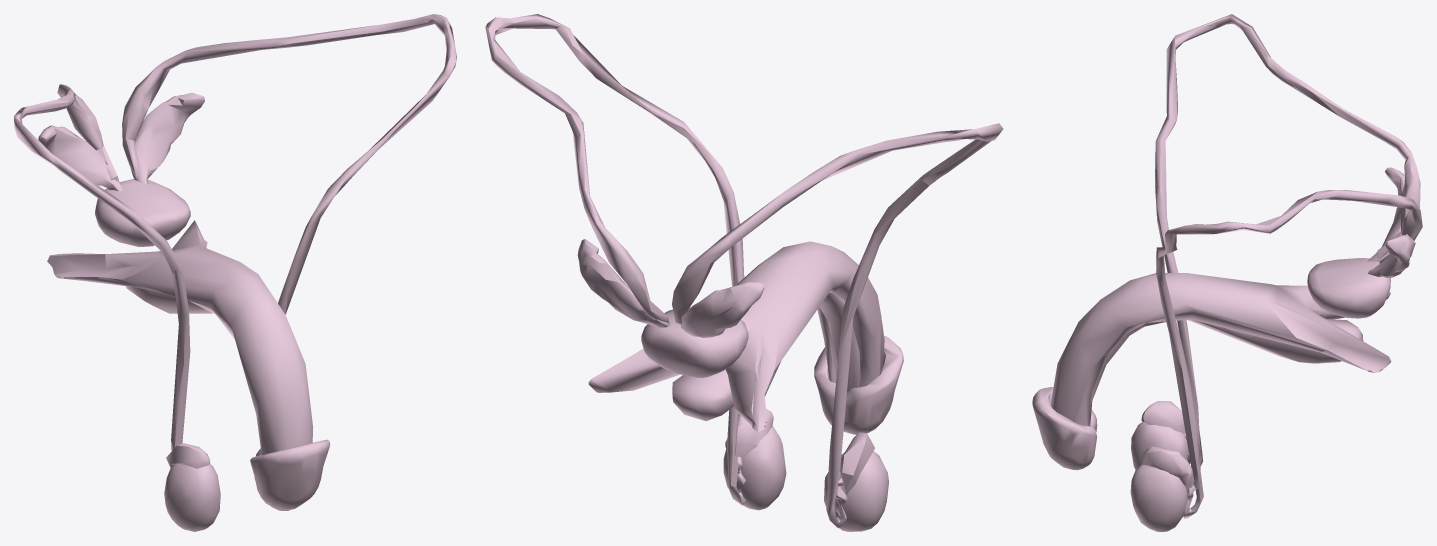
Rendered from genital-m-bassin.lo.glb.
The picture shows the model from 3 angles, left to right: view 1: azimuth 30°, elevation 25°; view 2: azimuth 150°, elevation 25°; view 3: azimuth 270°, elevation 25°; orthographic projection. The views are drawn at different scales.
Visible parts, largest first — view 1: FJ3132, FJ3135, FJ3140, FJ3139, FJ3134, FJ3142, FJ3137, FJ3143, FJ3133, FJ3141; view 2: FJ3132, FJ3140, FJ3135, FJ3139, FJ3134, FJ3133, FJ3138, FJ3143, FJ3142, FJ3137, FJ3141, FJ3136; view 3: FJ3132, FJ3140, FJ3135, FJ3139, FJ3134, FJ3138, FJ3133, FJ3142, FJ3136, FJ3137, FJ3141, FJ3143.
Part boxes in pixels (<box>): FJ3132: <box>47,220,313,455</box>; FJ3135: <box>122,14,456,314</box>; FJ3140: <box>14,84,190,450</box>; FJ3139: <box>95,179,190,246</box>; FJ3134: <box>250,439,330,510</box>; FJ3142: <box>164,463,220,531</box>; FJ3137: <box>130,92,204,184</box>; FJ3143: <box>38,125,122,191</box>; FJ3133: <box>126,286,212,313</box>; FJ3141: <box>166,443,210,468</box>; FJ3132: <box>588,241,884,431</box>; FJ3140: <box>672,123,1003,528</box>; FJ3135: <box>485,14,745,504</box>; FJ3139: <box>641,307,748,377</box>; FJ3134: <box>814,336,903,434</box>; FJ3133: <box>672,293,859,420</box>; FJ3138: <box>723,426,786,510</box>; FJ3143: <box>681,281,764,337</box>; FJ3142: <box>824,451,888,531</box>; FJ3137: <box>577,239,672,327</box>; FJ3141: <box>840,432,874,494</box>; FJ3136: <box>725,408,773,460</box>; FJ3132: <box>1050,273,1391,426</box>; FJ3140: <box>1155,14,1420,465</box>; FJ3135: <box>1156,190,1422,518</box>; FJ3139: <box>1307,258,1390,318</box>; FJ3134: <box>1032,387,1097,470</box>; FJ3138: <box>1130,464,1187,531</box>; FJ3133: <box>1089,319,1363,425</box>; FJ3142: <box>1131,421,1188,470</box>; FJ3136: <box>1141,446,1194,499</box>; FJ3137: <box>1368,234,1415,278</box>; FJ3141: <box>1141,401,1185,433</box>; FJ3143: <box>1367,167,1404,261</box>.
Size of the model in its own units: 0.1848 by 0.1705 by 0.1483.
